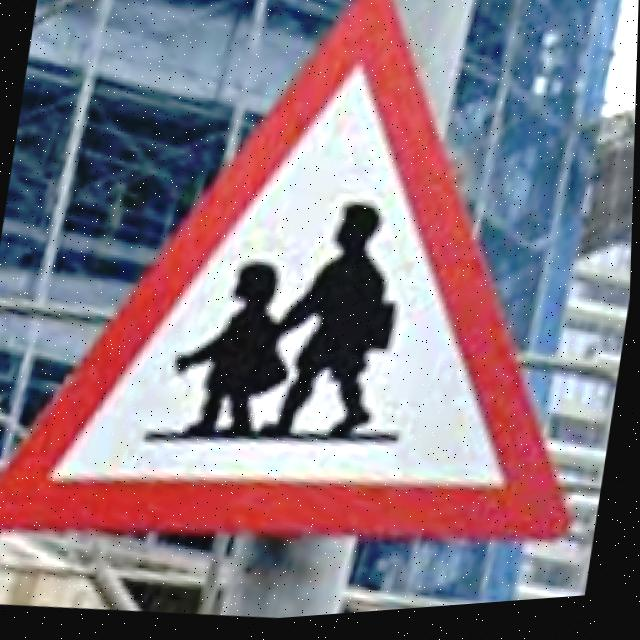childrencross: (0, 0, 569, 545)
